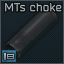MTs-255-12 12ga choke: (0, 0, 64, 64)
